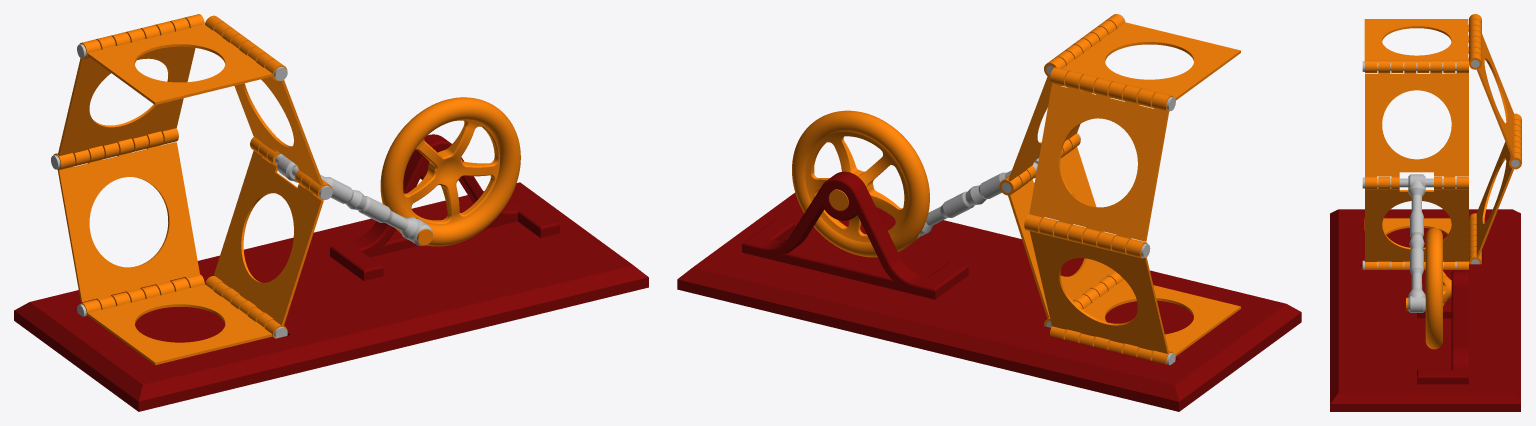
File: MechanizmPhantom.dae
3 renders of one model, left to right at view 1: azimuth 30°, elevation 25°; view 2: azimuth 150°, elevation 25°; view 3: azimuth 270°, elevation 25°, orthographic. The views are drawn at different scales.
Parts seen in each view (by area): view 1: Actor3, Actor10, Actor8, Actor9, Actor11, Actor12, Actor14, Actor2, Actor13, Actor7; view 2: Actor3, Actor11, Actor8, Actor2, Actor10, Actor12, Actor9, Actor14, Actor13, Actor7; view 3: Actor3, Actor13, Actor9, Actor12, Actor2, Actor8, Actor7, Actor11, Actor10, Actor14, Actor5.
Part boxes in pixels (x1,y1,x2,y2): Actor3: (14,182,648,411); Actor10: (53,131,204,309); Actor8: (380,97,520,246); Actor9: (214,137,323,337); Actor11: (58,17,195,166); Actor12: (87,14,287,104); Actor14: (79,276,273,365); Actor2: (330,134,559,280); Actor13: (205,15,332,200); Actor7: (277,155,432,245); Actor3: (677,190,1301,411); Actor11: (1024,71,1173,254); Actor8: (792,110,929,257); Actor2: (742,171,968,299); Actor10: (1029,217,1168,360); Actor12: (1050,14,1240,107); Actor9: (999,139,1123,318); Actor14: (1044,276,1240,364); Actor13: (1008,20,1116,187); Actor7: (917,158,1038,238); Actor3: (1330,209,1520,411); Actor13: (1365,60,1468,189); Actor9: (1365,176,1468,269); Actor12: (1364,19,1481,72); Actor2: (1417,270,1468,384); Actor8: (1406,228,1451,349); Actor7: (1408,174,1425,312); Actor11: (1469,14,1521,169); Actor10: (1469,113,1521,264); Actor14: (1364,213,1481,269); Actor5: (1362,177,1456,188).
Size of the model in its own units: 0.3302 by 0.1792 by 0.1403.
